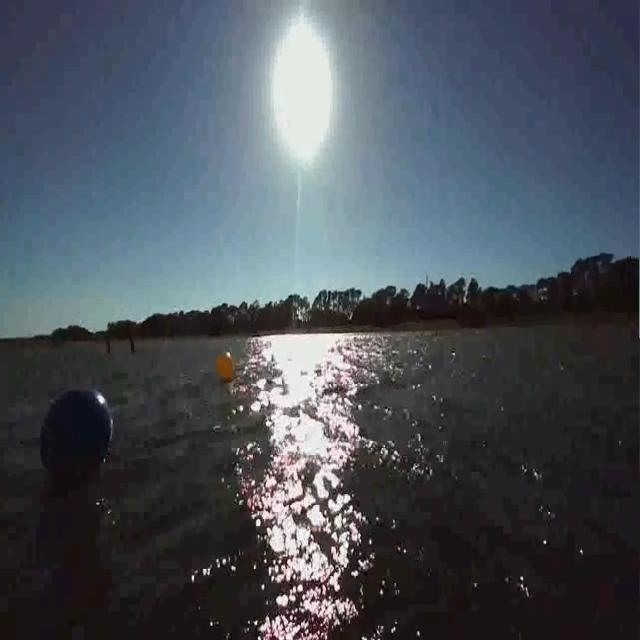blue-buoy: (36, 382, 117, 482)
yellow-buoy: (216, 349, 235, 381)
